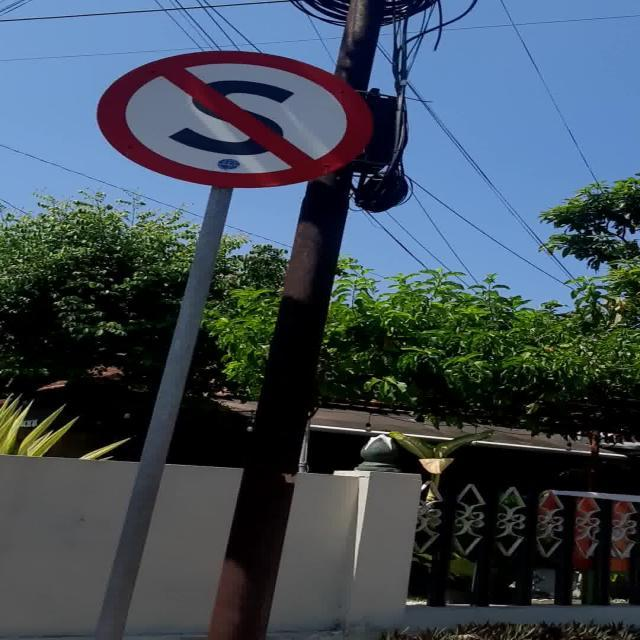Dilarang Berhenti: (95, 50, 374, 188)
